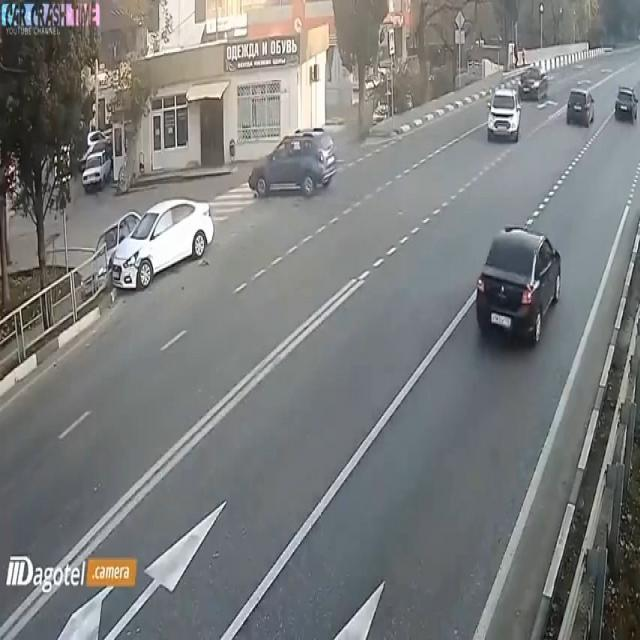Accident: (93, 176, 217, 306)
